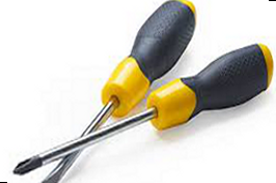Screwdriver: (17, 1, 274, 183)
